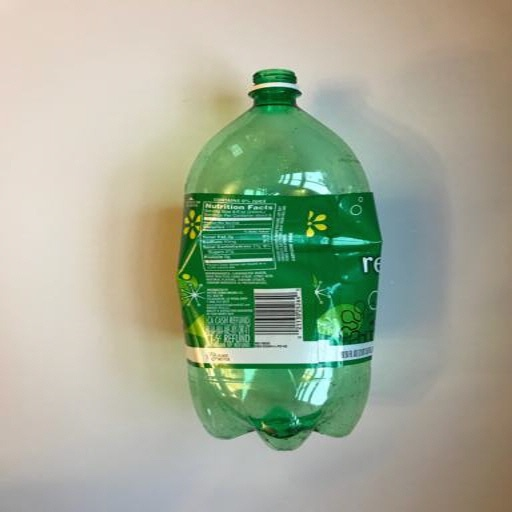Plastic_0: (179, 59, 380, 449)
